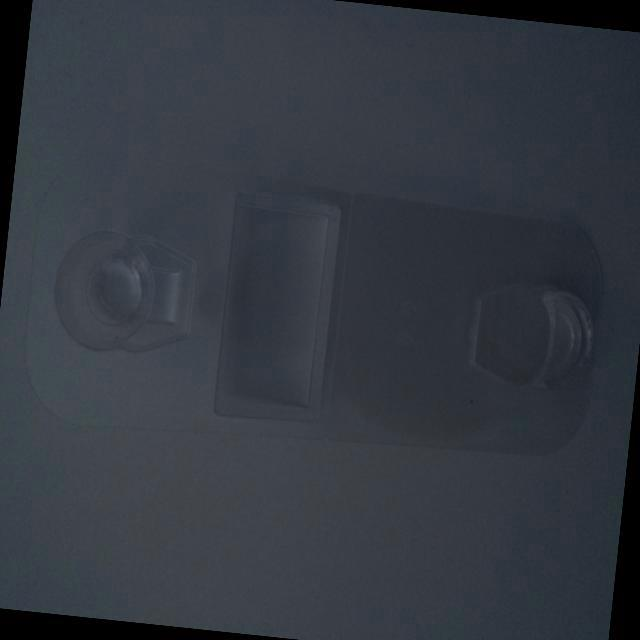plastic: (27, 129, 632, 521)
